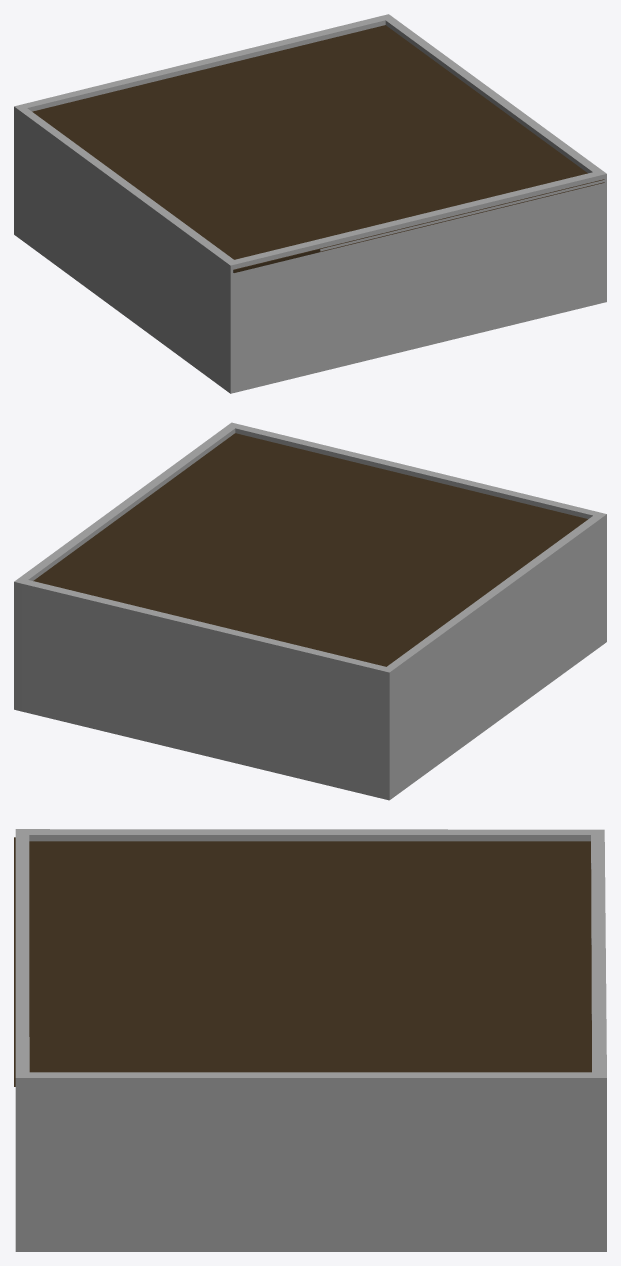
The model's file is crime scene 2 FBX.fbx.
The picture shows the model from 3 angles, top to bottom: view 1: azimuth 30°, elevation 25°; view 2: azimuth 150°, elevation 25°; view 3: azimuth 270°, elevation 25°; orthographic projection. The views are drawn at different scales.
Visible parts, largest first — view 1: Building_2, Ceiling_2; view 2: Building_2, Ceiling_2; view 3: Ceiling_2, Building_2.
Part boxes in pixels (left/top/right/bottom): Building_2: left=14, top=14, right=606, bottom=393; Ceiling_2: left=32, top=25, right=604, bottom=272; Building_2: left=14, top=422, right=606, bottom=800; Ceiling_2: left=33, top=433, right=587, bottom=666; Ceiling_2: left=14, top=837, right=591, bottom=1086; Building_2: left=15, top=829, right=606, bottom=1251.
Bounding box in the file's own units: 25.8 × 8.4 × 25.98.
